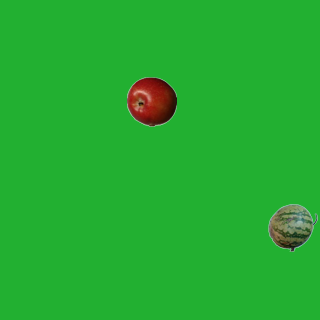Apple Braeburn: (126, 76, 176, 126)
Watermelon: (267, 202, 317, 252)
